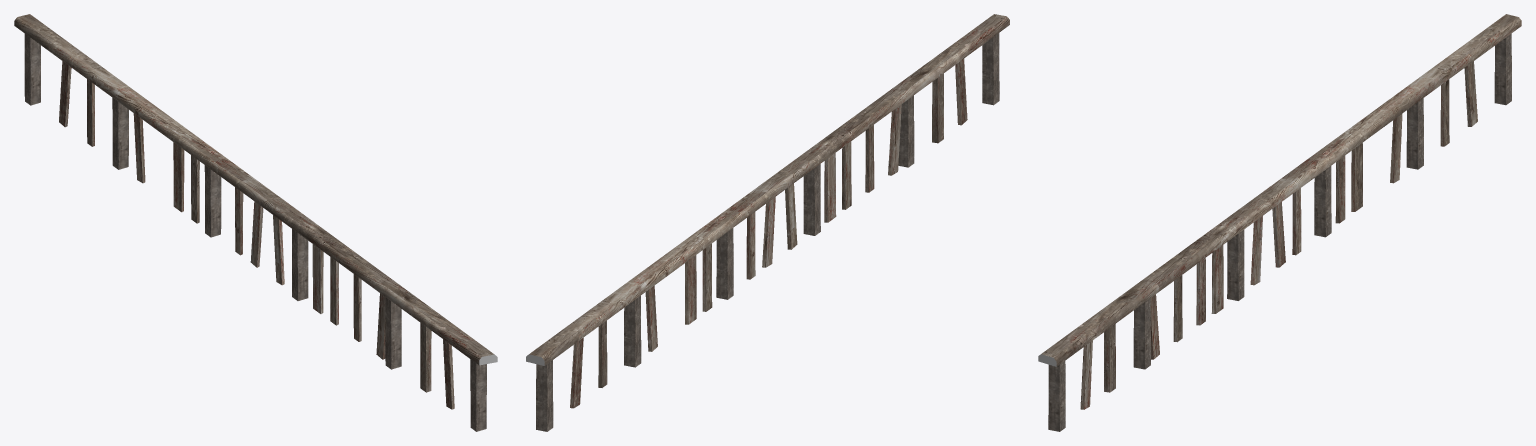
The model's file is Barrier1.fbx.
The picture shows the model from 3 angles, left to right: view 1: azimuth 30°, elevation 25°; view 2: azimuth 150°, elevation 25°; view 3: azimuth 330°, elevation 25°; orthographic projection.
Parts seen in each view (by area): view 1: polySurface398; view 2: polySurface398; view 3: polySurface398.
Boxes of the visible parts, x1,y1,x2,y2 form: polySurface398: [14, 14, 497, 431]; polySurface398: [526, 14, 1009, 431]; polySurface398: [1038, 14, 1521, 431].
Size of the model in its own units: 0.2599 by 1.09 by 11.37.
